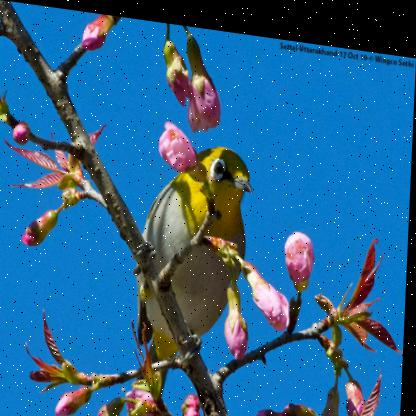Burung: (134, 130, 255, 414)
